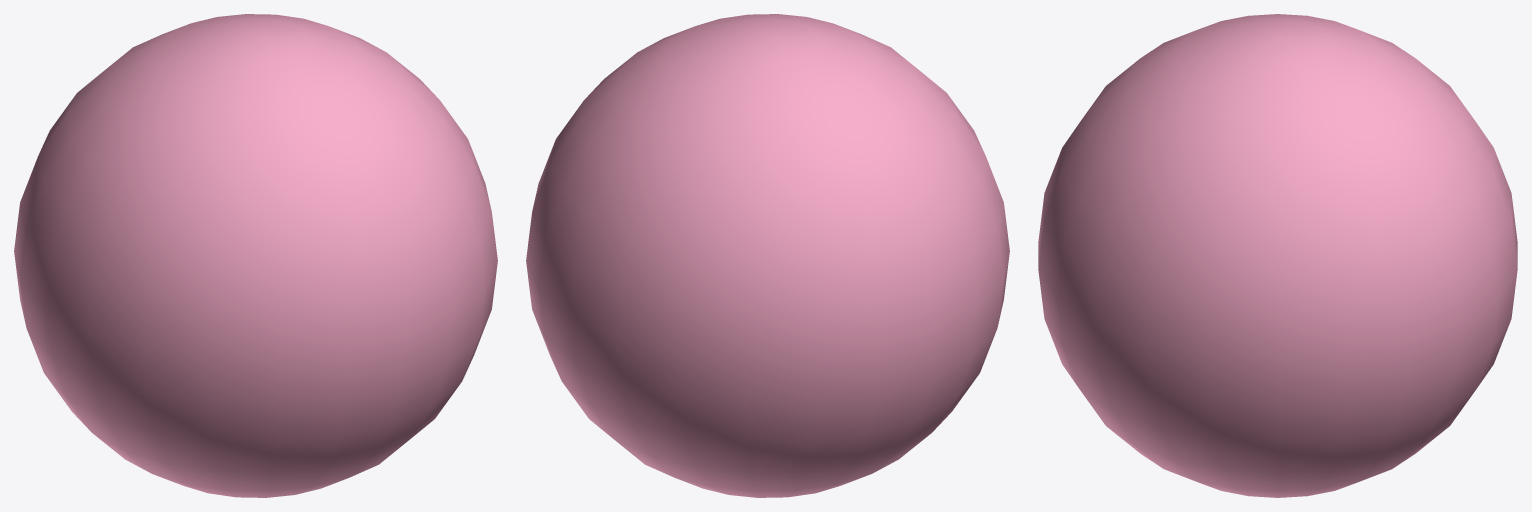
The model's file is SnookerBall_Pink.fbx.
The picture shows the model from 3 angles, left to right: view 1: azimuth 30°, elevation 25°; view 2: azimuth 150°, elevation 25°; view 3: azimuth 270°, elevation 25°; orthographic projection.
Parts seen in each view (by area): view 1: SnoookerBall_Pink; view 2: SnoookerBall_Pink; view 3: SnoookerBall_Pink.
Part boxes in pixels (x1=…): SnoookerBall_Pink: x1=14, y1=14, x2=497, y2=497; SnoookerBall_Pink: x1=526, y1=14, x2=1009, y2=497; SnoookerBall_Pink: x1=1038, y1=14, x2=1517, y2=497.
Size of the model in its own units: 0.052 by 0.052 by 0.0515.
1 material, 1 textured.
